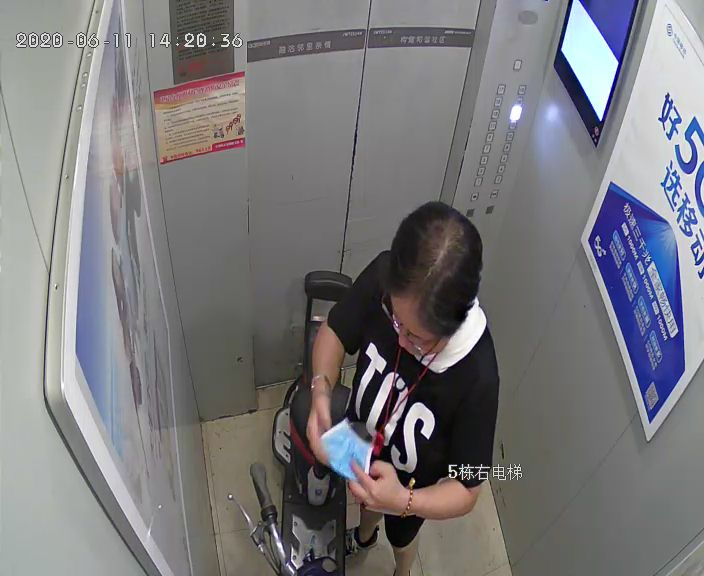Electric-bicycle: (227, 269, 352, 574)
